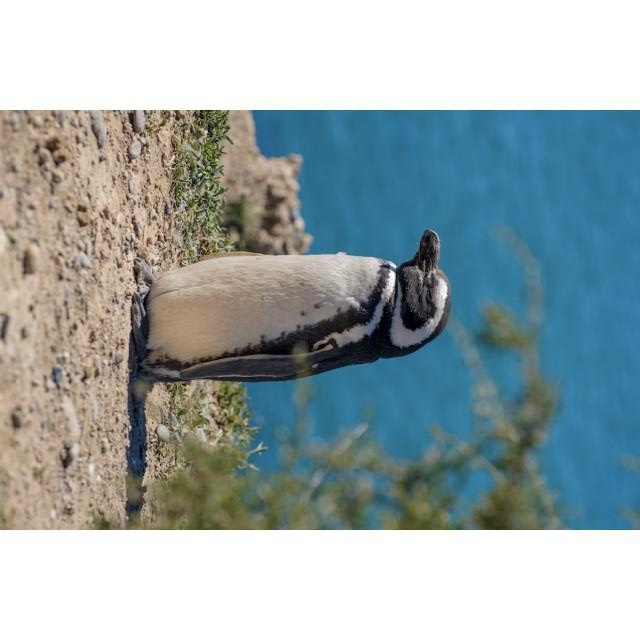penguin: (128, 228, 451, 402)
